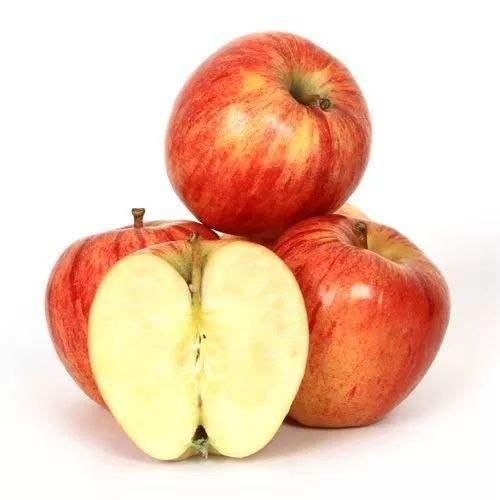apple: (88, 240, 309, 461), (163, 32, 375, 240), (275, 216, 454, 427), (45, 218, 221, 413)
